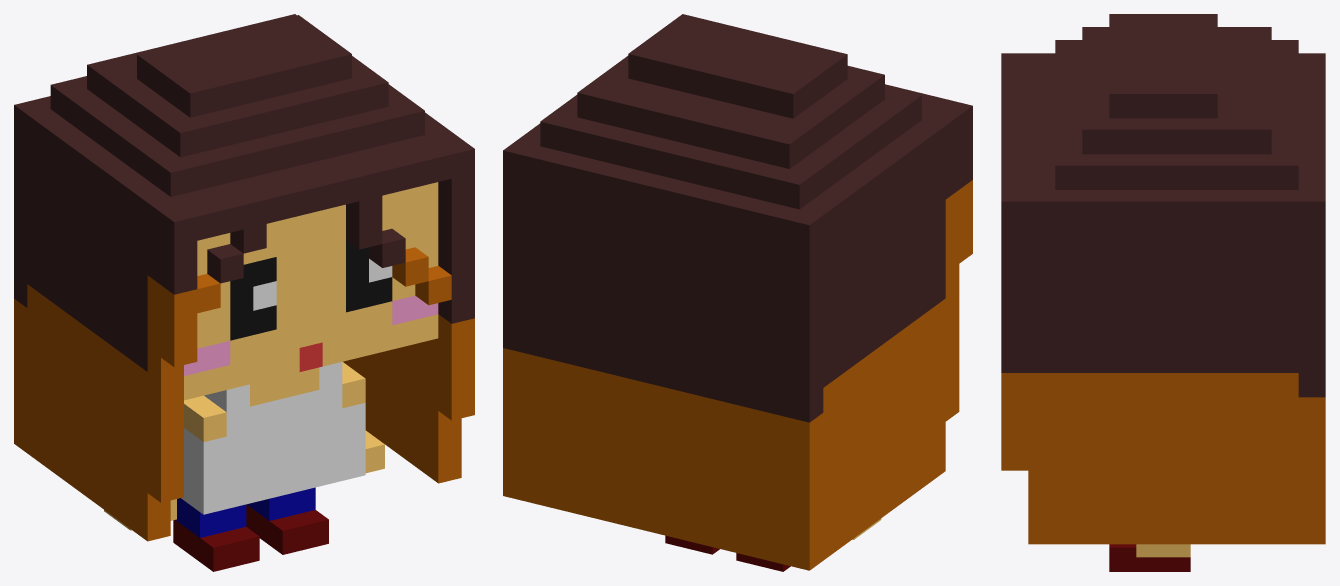
The model's file is Shruu_gltf.gltf.
The picture shows the model from 3 angles, left to right: view 1: azimuth 30°, elevation 25°; view 2: azimuth 150°, elevation 25°; view 3: azimuth 270°, elevation 25°; orthographic projection.
Parts seen in each view (by area): view 1: Mesh_0; view 2: Mesh_0; view 3: Mesh_0.
Part boxes in pixels (x1,y1,x2,y2): Mesh_0: [14, 14, 474, 571]; Mesh_0: [503, 14, 972, 571]; Mesh_0: [1001, 14, 1325, 571].
Size of the model in its own units: 20.48 by 31.51 by 18.91.
1 material, 1 textured.
